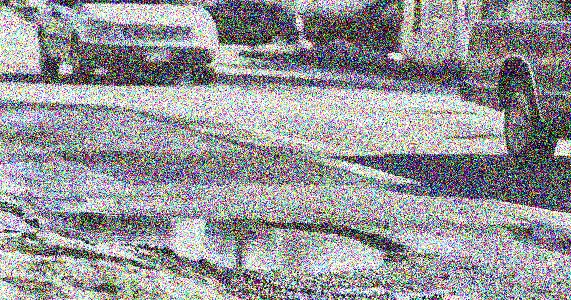pothole: (52, 209, 408, 270), (493, 223, 533, 237)
